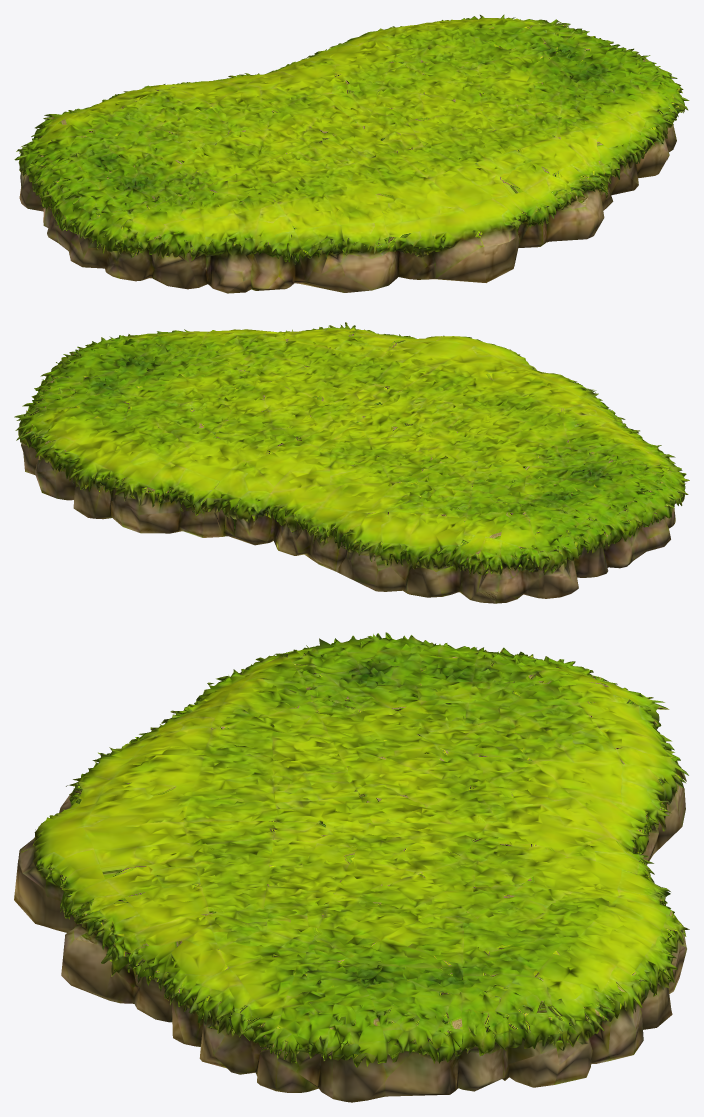
3 renders of one model, top to bottom at view 1: azimuth 30°, elevation 25°; view 2: azimuth 150°, elevation 25°; view 3: azimuth 270°, elevation 25°, orthographic. The views are drawn at different scales.
Size of the model in its own units: 1.88 by 0.1864 by 1.32.
1 material, 1 textured.
